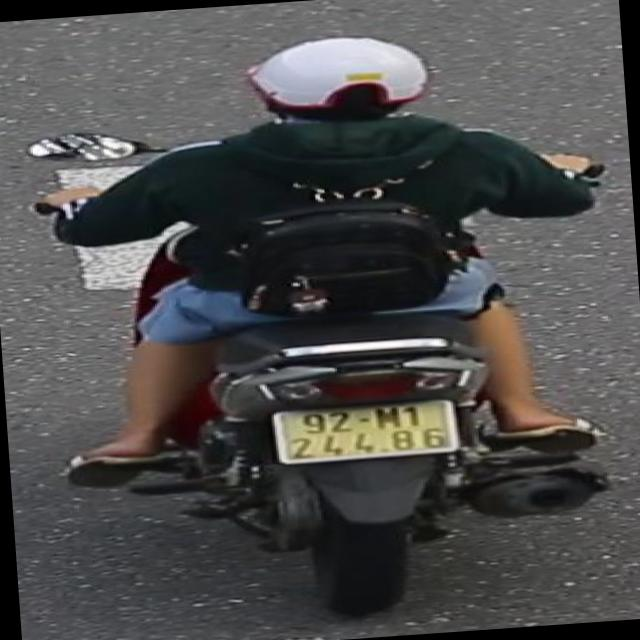LP: (264, 389, 464, 470)
helmet: (240, 24, 440, 136)
